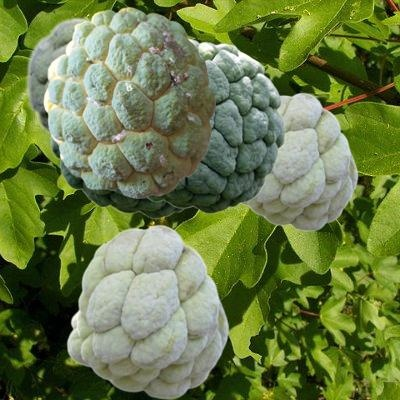atis: (43, 7, 214, 197), (66, 224, 228, 398), (147, 38, 284, 213), (25, 16, 189, 136), (241, 92, 357, 230), (50, 137, 184, 218)
